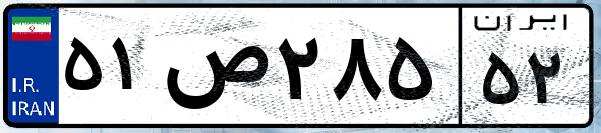1: (110, 28, 158, 98)
2: (270, 28, 330, 110), (525, 38, 570, 115)
5: (385, 28, 445, 110), (57, 26, 110, 100), (475, 38, 525, 113)
8: (330, 28, 385, 110)
ص: (158, 20, 270, 120)
